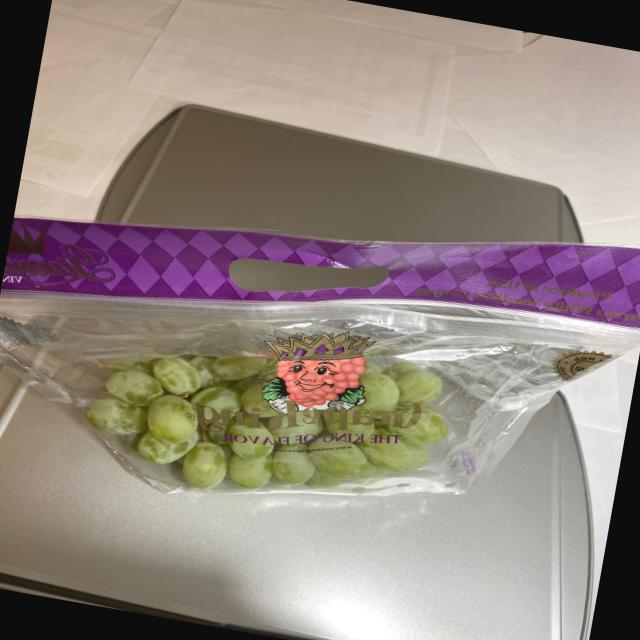grapes: (68, 272, 508, 542)
